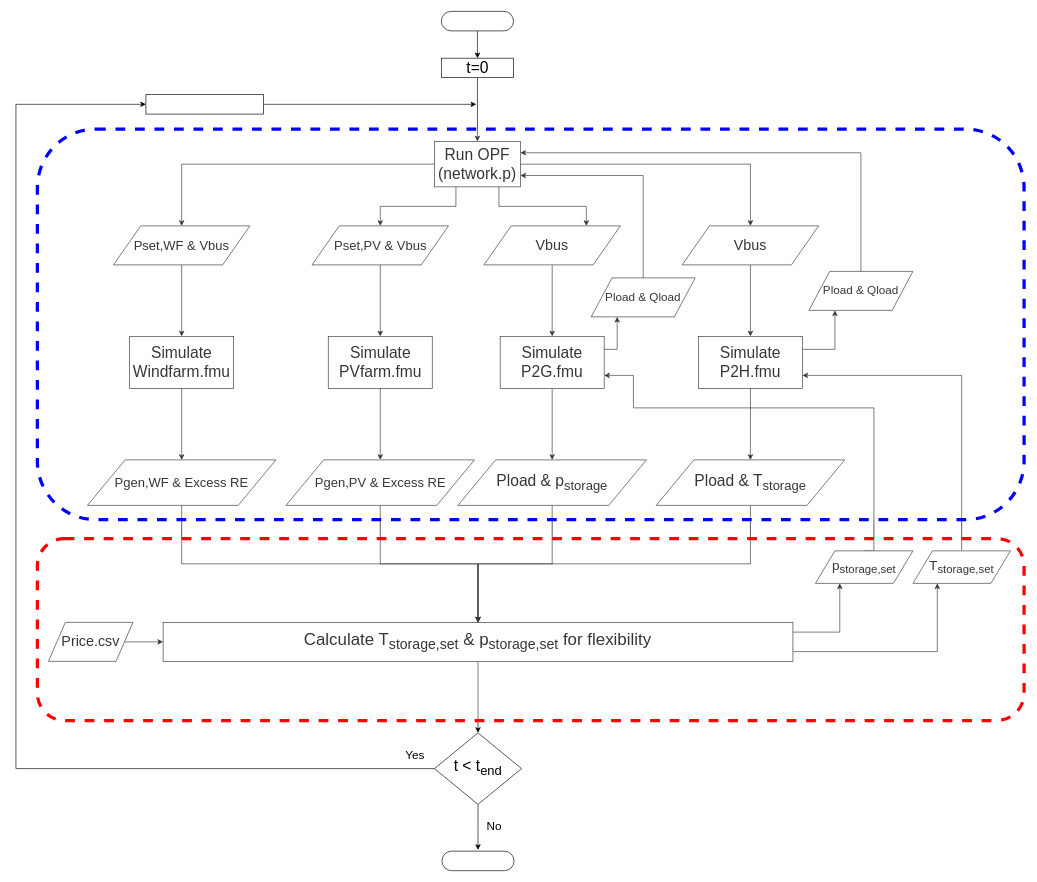
Image size: 1037x882. Some labels were removed from this diagram. Each missing label, with the centre of its shape:
CEMS: pixel 530 629
end: pixel 477 861
MES: pixel 530 324
start: pixel 477 21
t = t + t exchange: pixel 204 104
